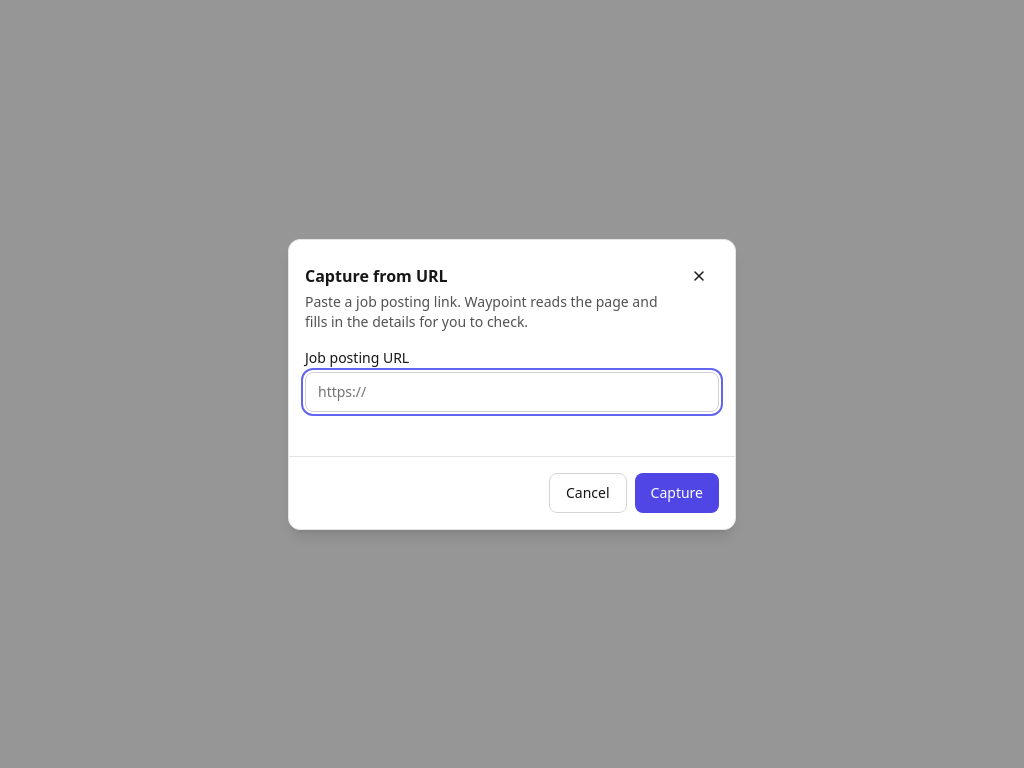
Test: CaptureDialog › shows a 422 or 502 message on the URL field
The image size is (1024, 768).
Type "https://acme.example/jobs/1" into the field labelled "Job posting URL" at (512, 392), box [305, 372, 719, 412]
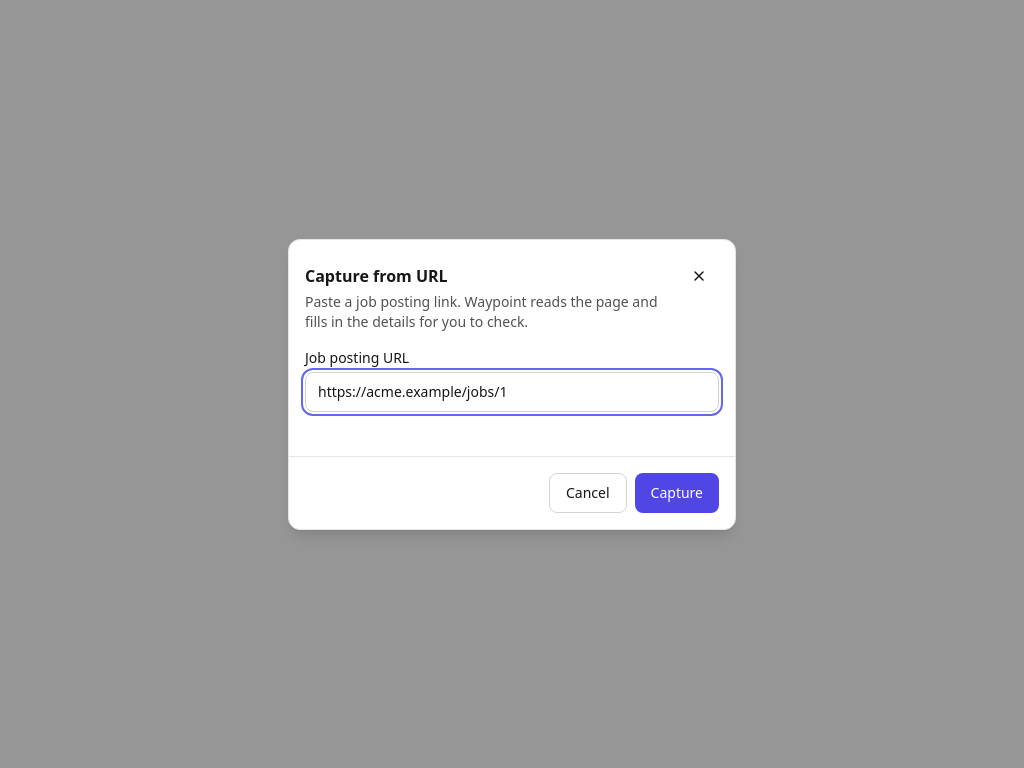
Click the button "Capture" at (677, 492), box [635, 472, 719, 512]
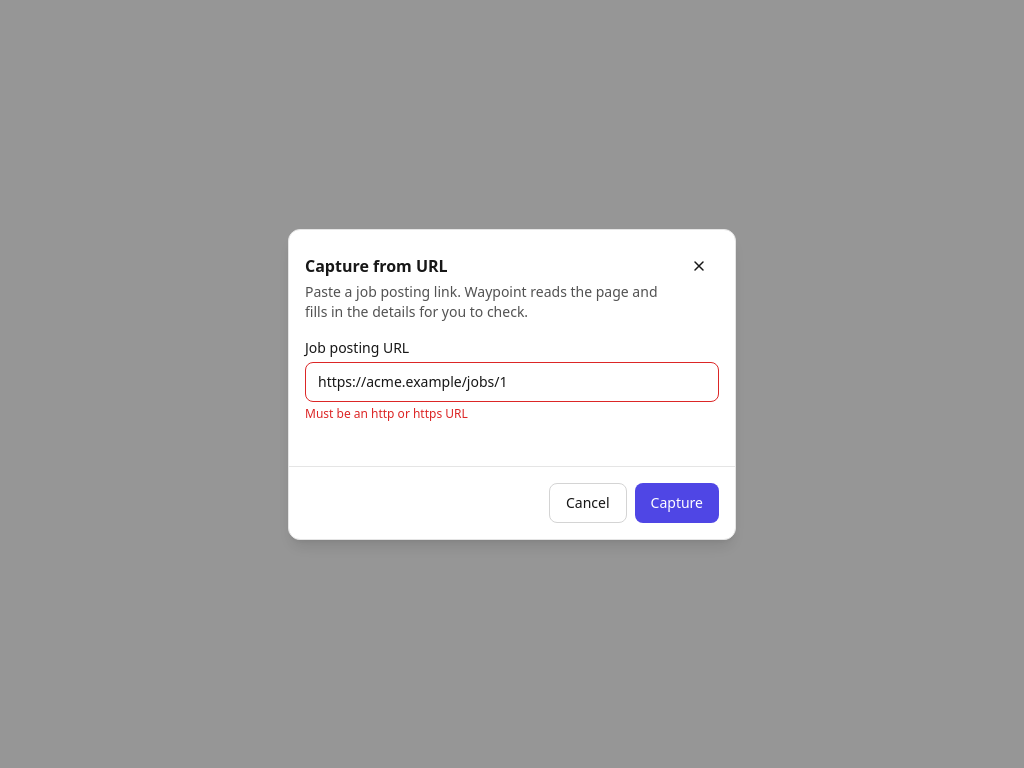
Expected: the text "Must be an http or https URL" is shown, [305, 404, 468, 422]
Click the button "Capture" at (677, 502), box [635, 482, 719, 522]
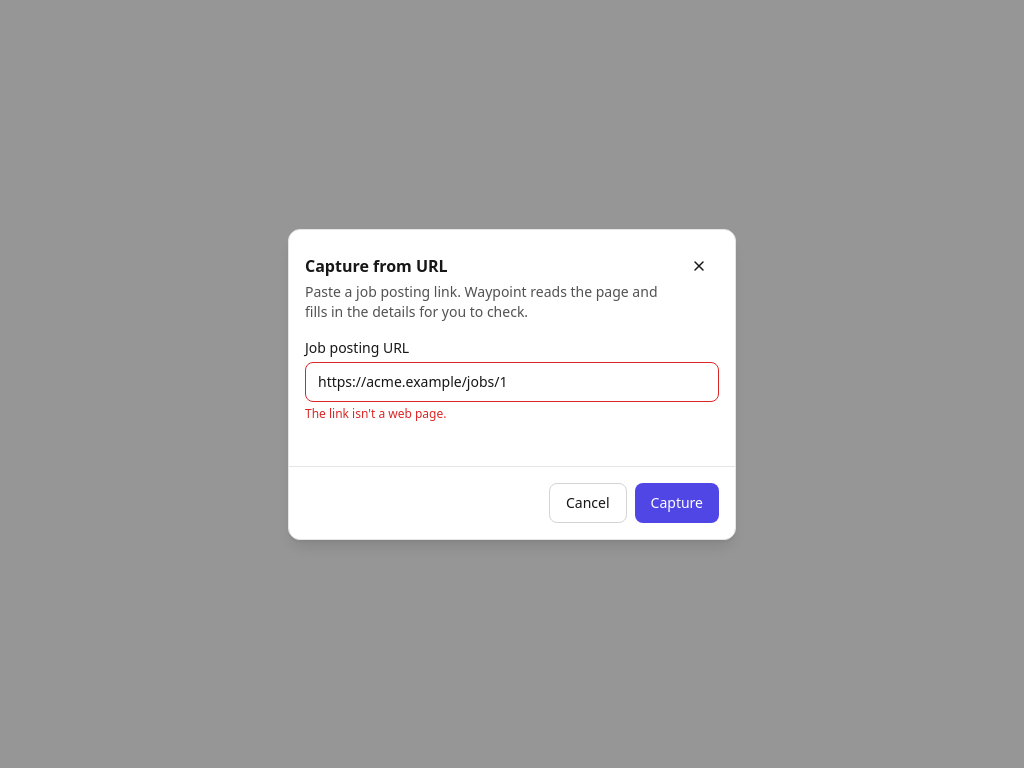
Expected: the text "The link isn't a web page." is shown, [305, 404, 446, 422]
